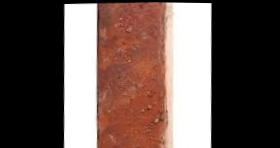brick: (90, 1, 169, 148)
